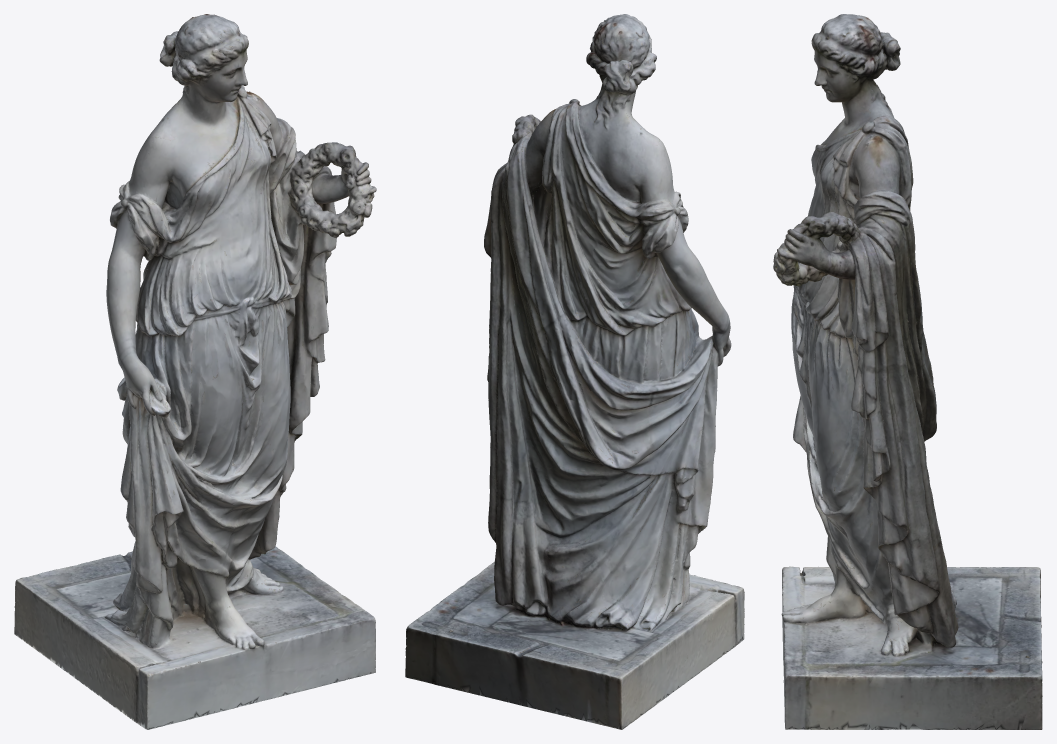
The model's file is flora.glb.
The picture shows the model from 3 angles, left to right: view 1: azimuth 30°, elevation 25°; view 2: azimuth 150°, elevation 25°; view 3: azimuth 270°, elevation 25°; orthographic projection. The views are drawn at different scales.
Visible parts, largest first — view 1: Object_2; view 2: Object_2; view 3: Object_2.
Boxes of the visible parts, bbox=[...] form: Object_2: bbox=[14, 14, 376, 729]; Object_2: bbox=[405, 14, 744, 729]; Object_2: bbox=[773, 14, 1042, 729].
Bounding box in the file's own units: 0.7369 × 1.99 × 0.7464.
1 material, 1 textured.
